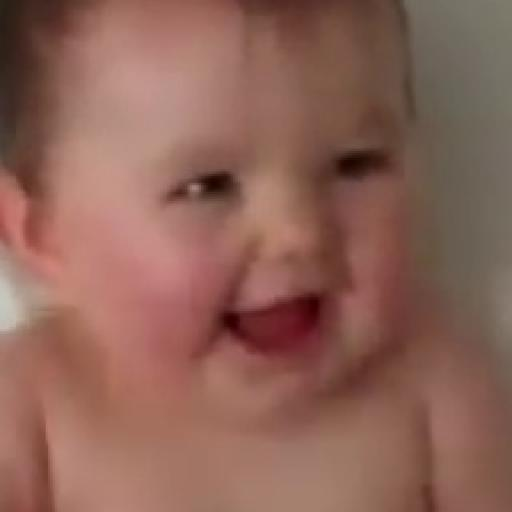Autism: (38, 0, 442, 434)
